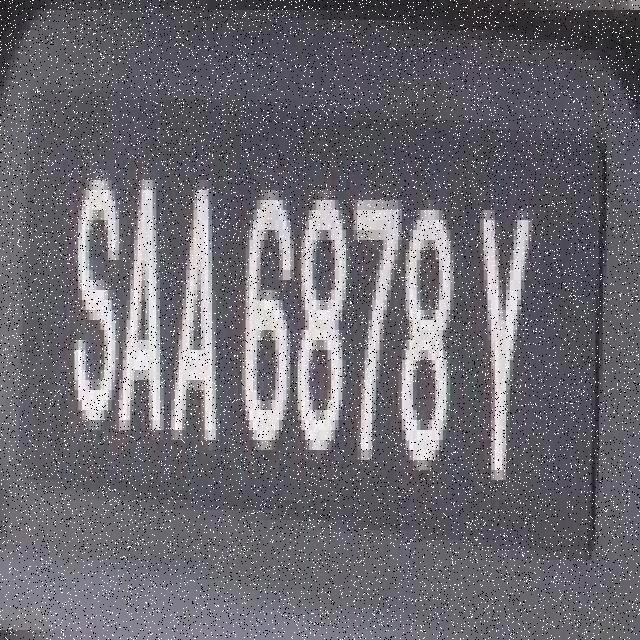LicensePlate: (20, 61, 615, 592)
